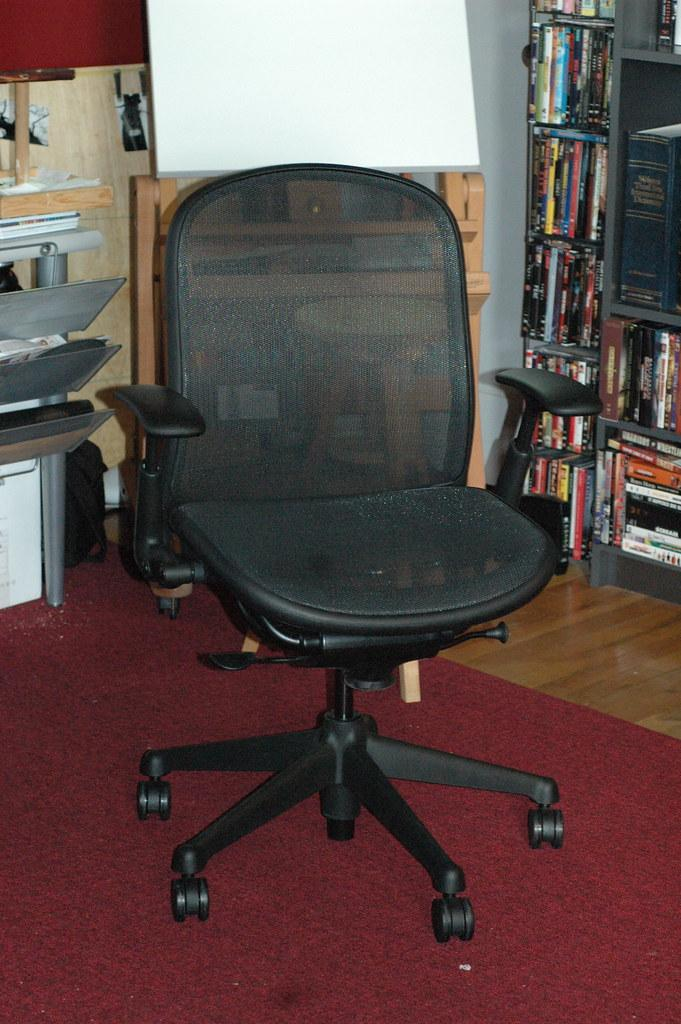chair: (114, 162, 604, 944)
